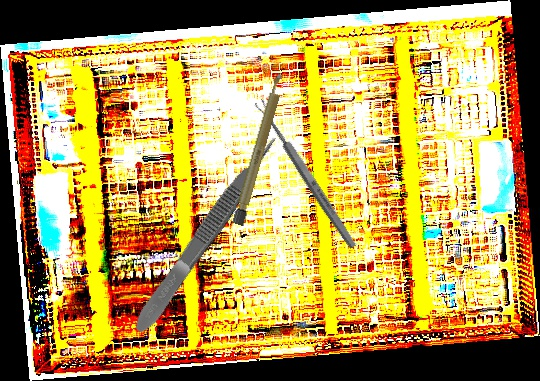Scalpel Handle: (232, 71, 287, 227)
Surgical Spoon: (253, 97, 359, 251)
Tissue Forceps: (128, 132, 286, 337)
